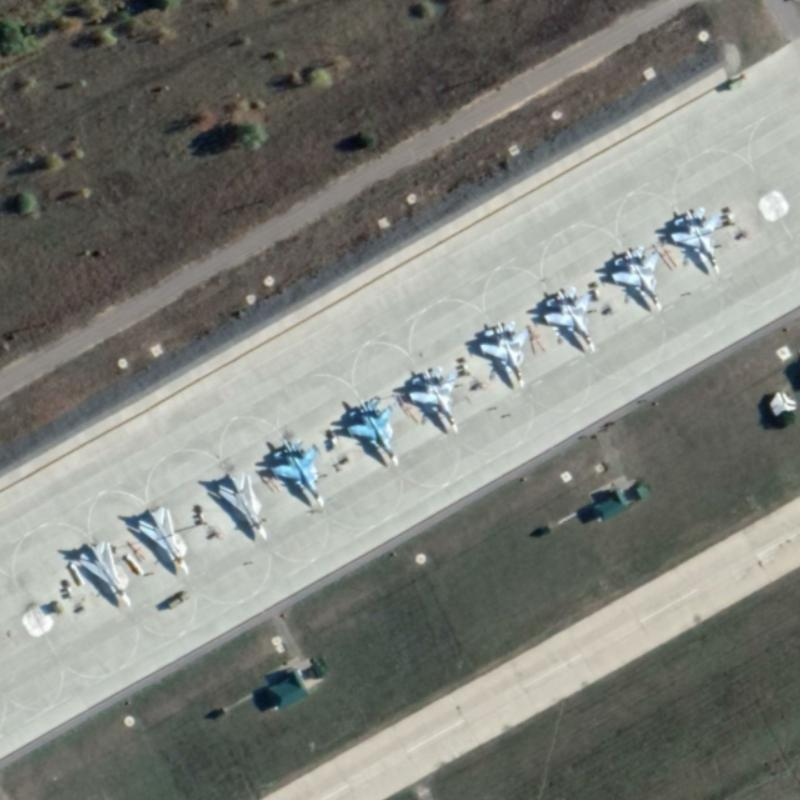A19: (268, 436, 327, 509), (344, 394, 400, 468), (667, 204, 724, 275), (540, 283, 597, 353), (477, 317, 531, 390), (406, 363, 460, 435), (608, 243, 663, 312)
A20: (136, 504, 191, 576), (214, 469, 268, 540), (77, 539, 132, 607)
